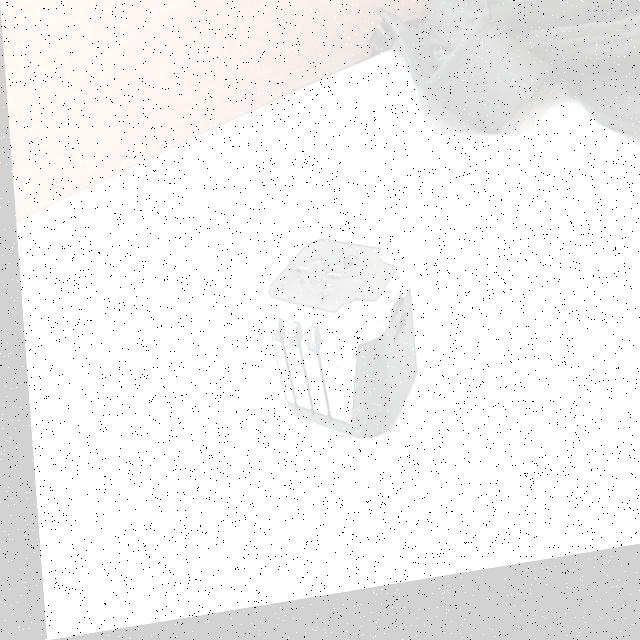adapter: (253, 233, 415, 462)
